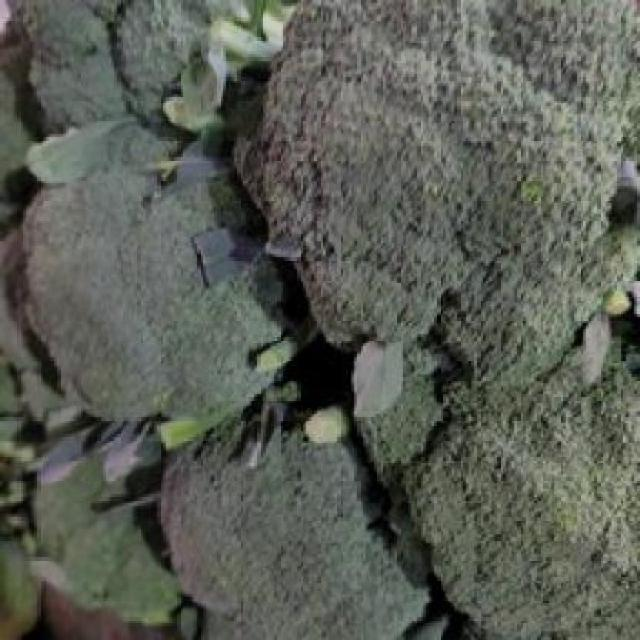broccoli: (235, 3, 634, 354), (340, 372, 637, 628), (10, 185, 286, 418), (174, 428, 417, 624)
